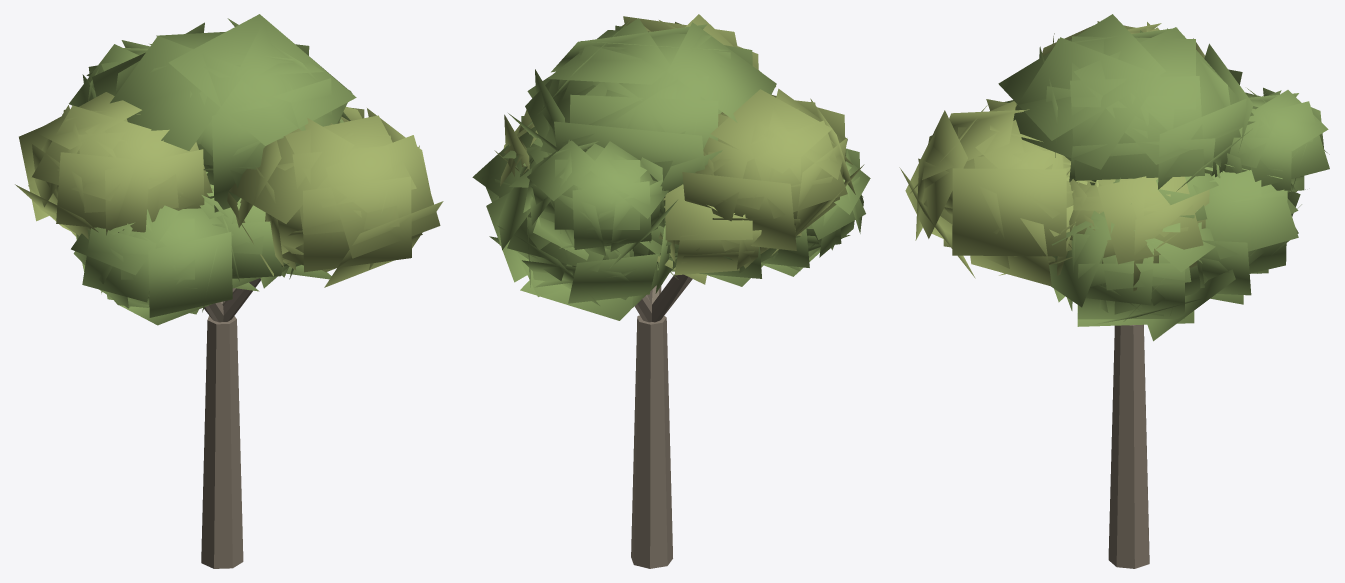
File: MapleTree.glb
3 renders of one model, left to right at view 1: azimuth 30°, elevation 25°; view 2: azimuth 150°, elevation 25°; view 3: azimuth 270°, elevation 25°, orthographic.
Parts seen in each view (by area): view 1: Leaf crown.031, Leaf crown.030, Leaf crown.027, Leaf crown.026, Limb.009, Leaf crown.028, Leaf crown.021, Limb.014; view 2: Leaf crown.031, Leaf crown.027, Leaf crown.021, Leaf crown.020, Limb.009, Leaf crown.024, Leaf crown.026, Leaf crown.016, Leaf crown.030, Leaf crown.018, Leaf crown.023, Limb.012 (+1 smaller); view 3: Leaf crown.031, Leaf crown.030, Leaf crown.016, Leaf crown.020, Limb.009, Leaf crown.018, Leaf crown.021, Leaf crown.029, Leaf crown.017.
Boxes of the visible parts, left/top/right/bottom form: Leaf crown.031: left=89, top=14, right=356, bottom=212; Leaf crown.030: left=227, top=108, right=443, bottom=287; Leaf crown.027: left=15, top=92, right=212, bottom=239; Leaf crown.026: left=71, top=195, right=239, bottom=325; Limb.009: left=201, top=315, right=243, bottom=568; Leaf crown.028: left=211, top=188, right=297, bottom=291; Leaf crown.021: left=62, top=40, right=149, bottom=114; Limb.014: left=222, top=278, right=260, bottom=321; Leaf crown.031: left=508, top=18, right=776, bottom=205; Leaf crown.027: left=682, top=88, right=864, bottom=255; Leaf crown.021: left=523, top=139, right=677, bottom=268; Leaf crown.020: left=486, top=147, right=676, bottom=320; Limb.009: left=631, top=315, right=672, bottom=568; Leaf crown.024: left=657, top=184, right=769, bottom=284; Leaf crown.026: left=761, top=148, right=870, bottom=276; Leaf crown.016: left=472, top=116, right=529, bottom=245; Leaf crown.030: left=621, top=14, right=775, bottom=87; Leaf crown.018: left=494, top=110, right=537, bottom=186; Leaf crown.023: left=657, top=207, right=800, bottom=286; Limb.012: left=652, top=274, right=688, bottom=322; Leaf crown.031: left=998, top=14, right=1254, bottom=191; Leaf crown.030: left=899, top=99, right=1079, bottom=278; Leaf crown.016: left=1049, top=203, right=1235, bottom=341; Leaf crown.020: left=1193, top=164, right=1301, bottom=304; Limb.009: left=1108, top=324, right=1149, bottom=568; Leaf crown.018: left=1066, top=170, right=1209, bottom=291; Leaf crown.021: left=1225, top=87, right=1329, bottom=195; Leaf crown.029: left=970, top=162, right=1099, bottom=286; Leaf crown.017: left=1113, top=164, right=1220, bottom=220.
Bounding box in the file's own units: 5.57 × 7.92 × 6.
